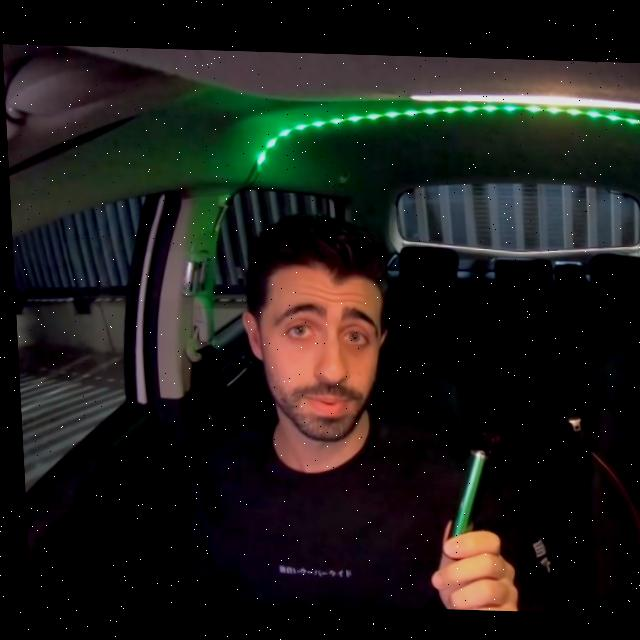vape: (438, 443, 488, 539)
